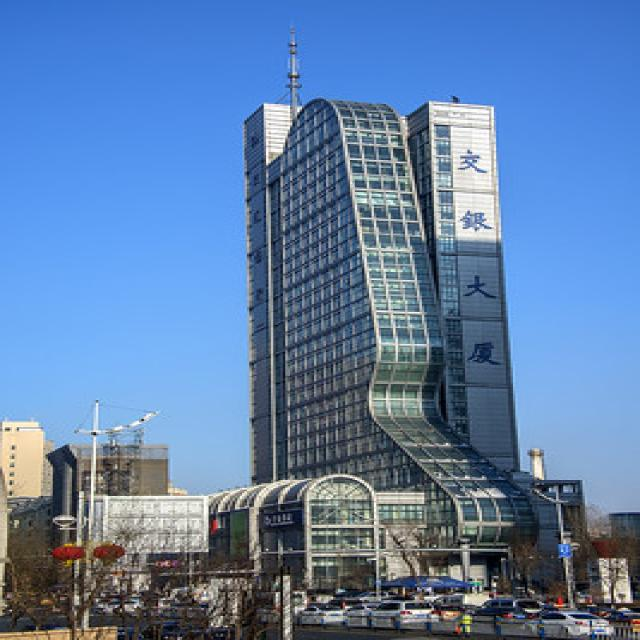building: (237, 84, 542, 618)
